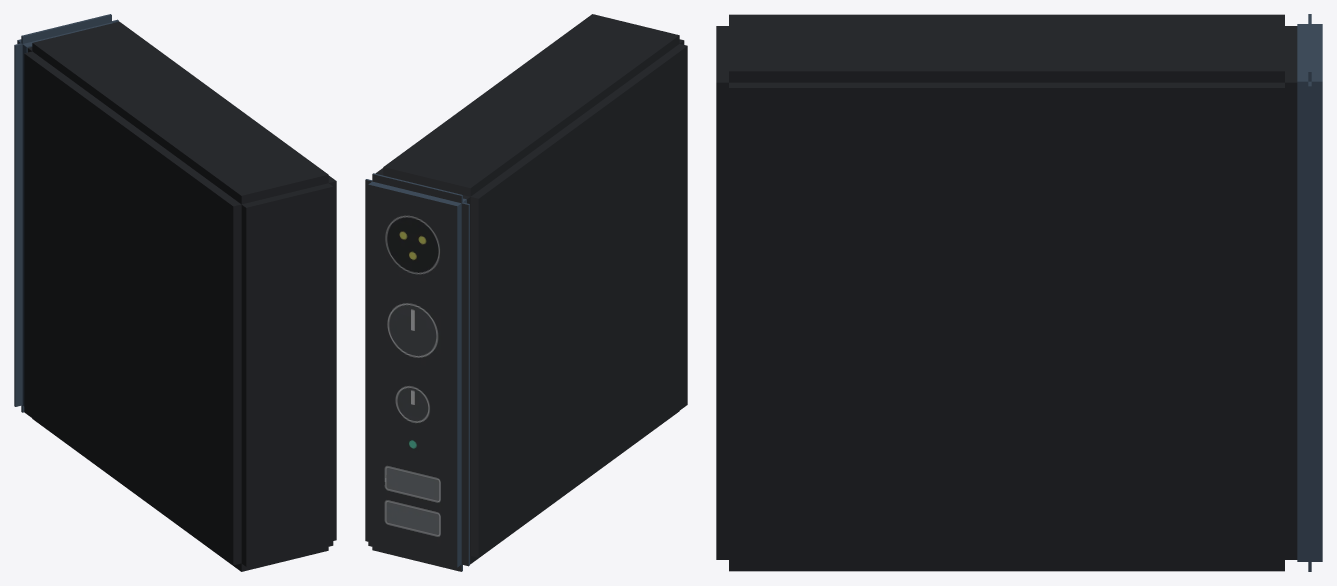
File: ams-neve-1073lb.glb
3 renders of one model, left to right at view 1: azimuth 30°, elevation 25°; view 2: azimuth 150°, elevation 25°; view 3: azimuth 270°, elevation 25°, orthographic. The views are drawn at different scales.
Visible parts, largest first — view 1: ams-neve-1073lb-body; view 2: ams-neve-1073lb-body; view 3: ams-neve-1073lb-body.
Boxes of the visible parts, x1,y1,x2,y2 form: ams-neve-1073lb-body: (14,14,336,571); ams-neve-1073lb-body: (365,14,687,571); ams-neve-1073lb-body: (716,14,1322,571).
Size of the model in its own units: 0.038 by 0.132 by 0.145.
Materials: 1 (1 with a texture image).
